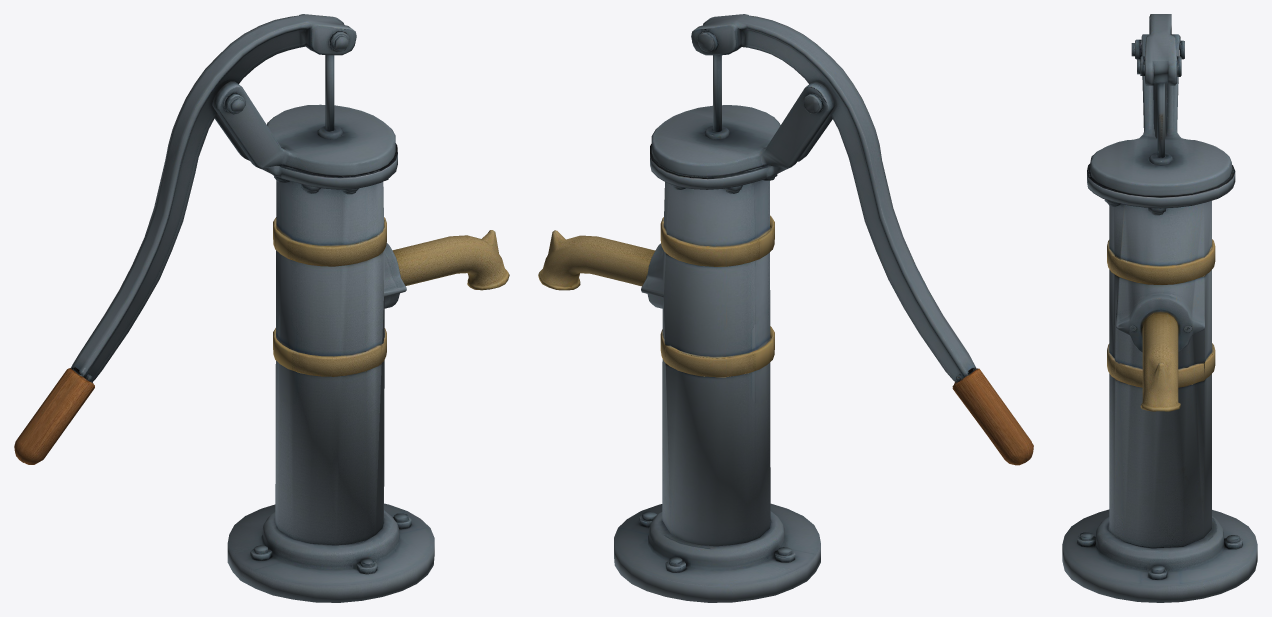
File: tripo_convert_5a9fa6f2-50fc-4988-84ca-c06bf4d9dbb7.fbx
3 views of the same model, side by side, from view 1: azimuth 30°, elevation 25°; view 2: azimuth 150°, elevation 25°; view 3: azimuth 270°, elevation 25° (orthographic). The views are drawn at different scales.
Visible parts, largest first — view 1: tripo_node_5a9fa6f2; view 2: tripo_node_5a9fa6f2; view 3: tripo_node_5a9fa6f2.
Part boxes in pixels (box(x1,y1,x2,y2)): tripo_node_5a9fa6f2: box(14, 14, 509, 602); tripo_node_5a9fa6f2: box(538, 14, 1033, 602); tripo_node_5a9fa6f2: box(1062, 14, 1257, 602).
Size of the model in its own units: 0.9355 by 0.998 by 0.3418.
Materials: 1 (1 with a texture image).
